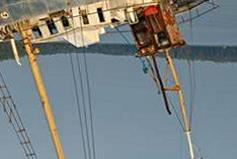rust: (155, 7, 185, 43), (16, 20, 39, 59)
